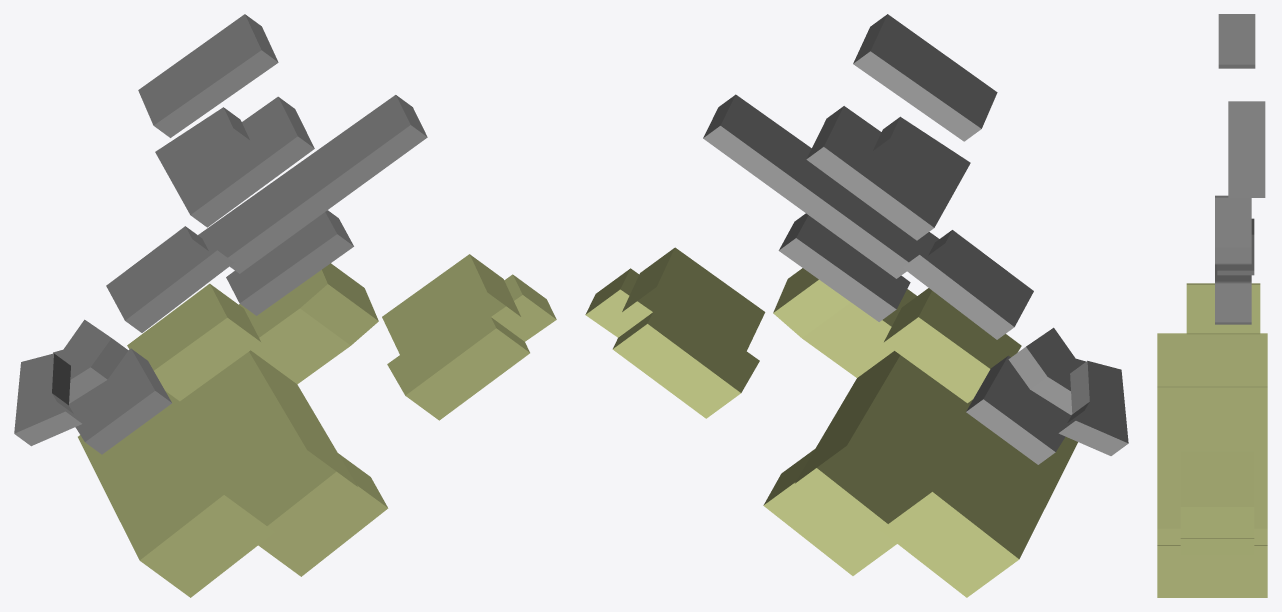
The picture shows the model from 3 angles, left to right: view 1: azimuth 30°, elevation 25°; view 2: azimuth 150°, elevation 25°; view 3: azimuth 270°, elevation 25°; orthographic projection. The views are drawn at different scales.
Parts seen in each view (by area): view 1: 0_1_0_0_0_1_2_1_2; view 2: 0_1_0_0_0_1_2_1_2; view 3: 0_1_0_0_0_1_2_1_2.
Boxes of the visible parts, bbox=[...] form: 0_1_0_0_0_1_2_1_2: bbox=[14, 14, 556, 597]; 0_1_0_0_0_1_2_1_2: bbox=[585, 14, 1128, 597]; 0_1_0_0_0_1_2_1_2: bbox=[1157, 14, 1267, 597].
Bounding box in the file's own units: 51.88 × 51.79 × 9.
